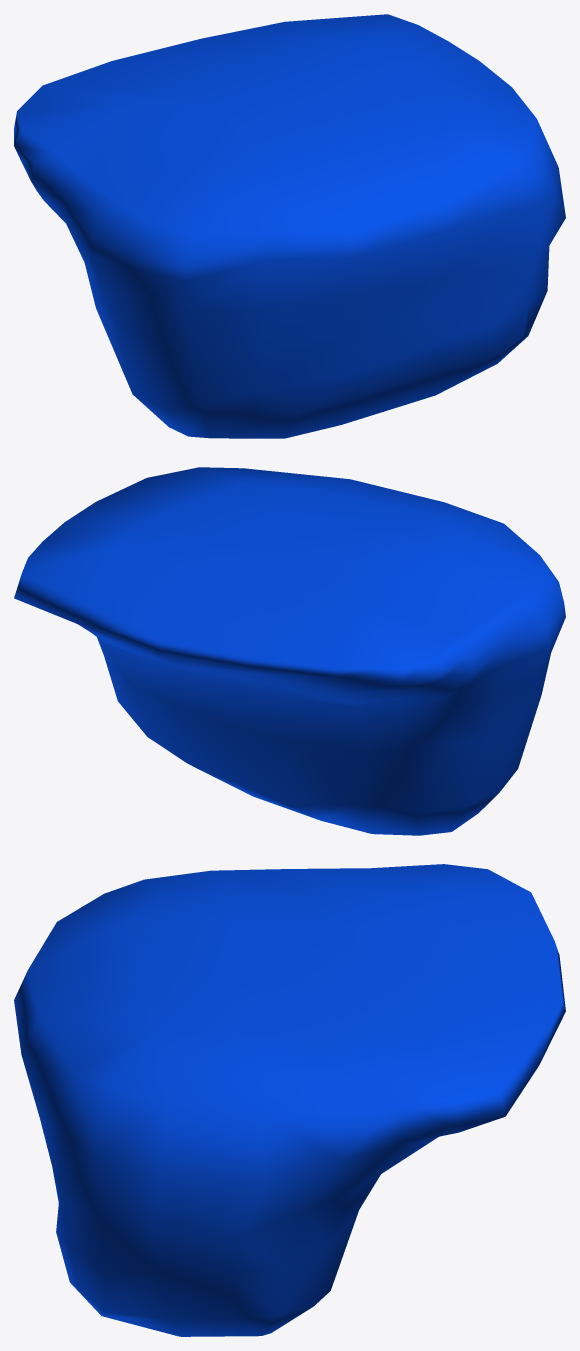
Rendered from Mega_Rock_02A_Lod1.fbx.
3 renders of one model, top to bottom at view 1: azimuth 30°, elevation 25°; view 2: azimuth 150°, elevation 25°; view 3: azimuth 270°, elevation 25°, orthographic. The views are drawn at different scales.
Parts seen in each view (by area): view 1: Mega_Rock_02A_Lod1; view 2: Mega_Rock_02A_Lod1; view 3: Mega_Rock_02A_Lod1.
Part boxes in pixels (x1,y1,x2,y2): Mega_Rock_02A_Lod1: (14, 14, 565, 438); Mega_Rock_02A_Lod1: (14, 467, 565, 835); Mega_Rock_02A_Lod1: (14, 864, 565, 1336).
Size of the model in its own units: 4457 by 2645 by 3885.
